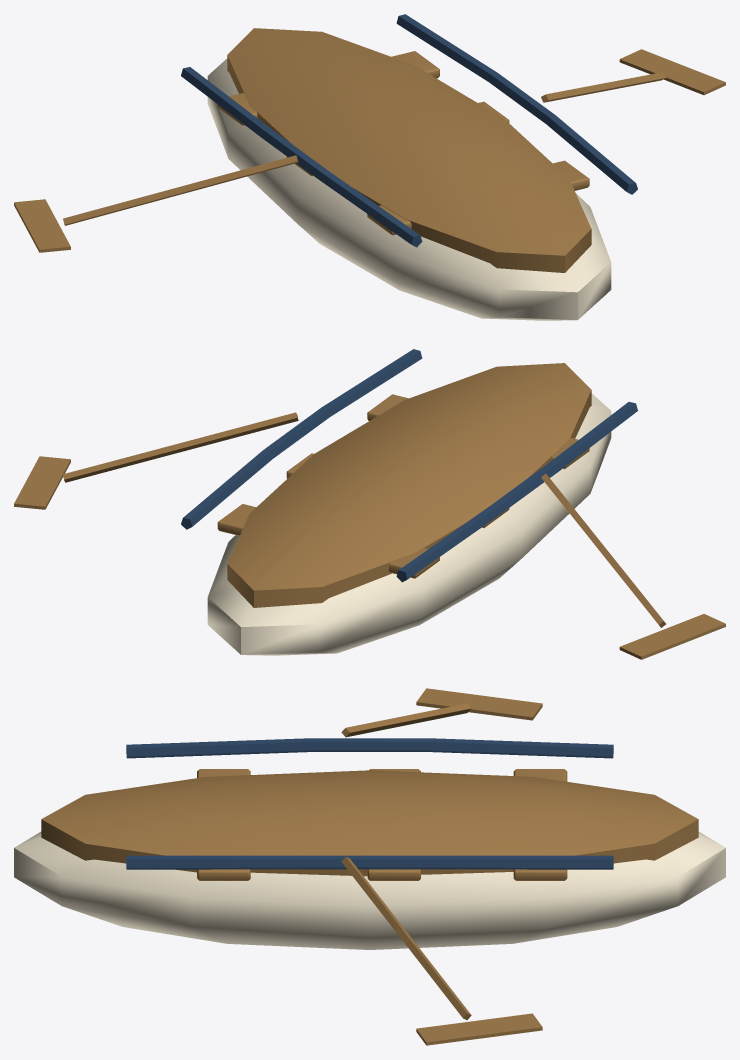
The model's file is rowboat.glb.
The picture shows the model from 3 angles, top to bottom: view 1: azimuth 30°, elevation 25°; view 2: azimuth 150°, elevation 25°; view 3: azimuth 270°, elevation 25°; orthographic projection. The views are drawn at different scales.
Parts seen in each view (by area): view 1: rowboat; view 2: rowboat; view 3: rowboat.
Boxes of the visible parts, x1=… form: rowboat: x1=14, y1=14, x2=725, y2=320; rowboat: x1=14, y1=349, x2=725, y2=659; rowboat: x1=14, y1=688, x2=725, y2=1045.
Bounding box in the file's own units: 3.44 × 0.6189 × 2.92.
